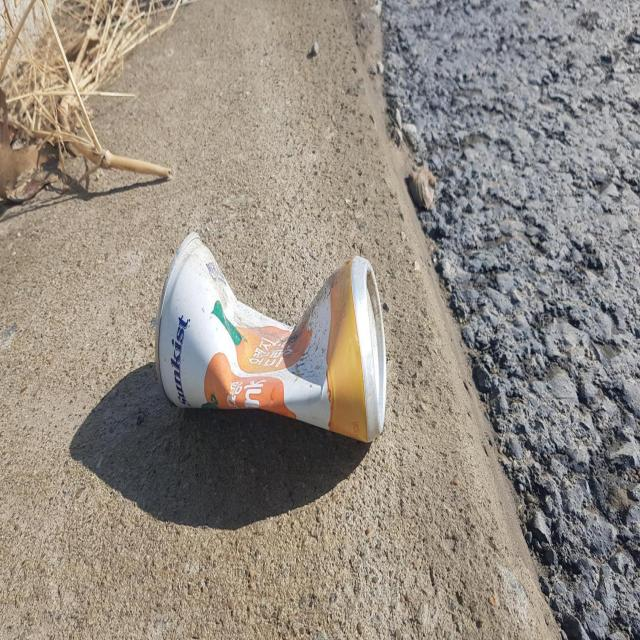can: (155, 231, 387, 442)
